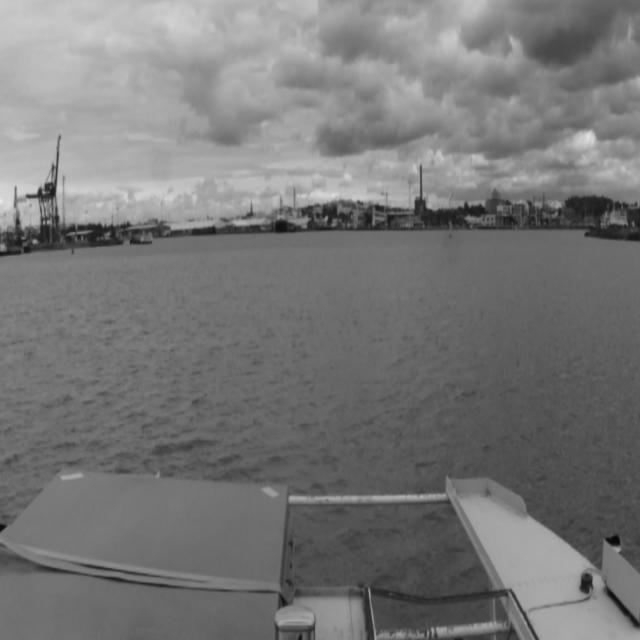buoy: (449, 222, 452, 238)
ship: (275, 198, 288, 233)
